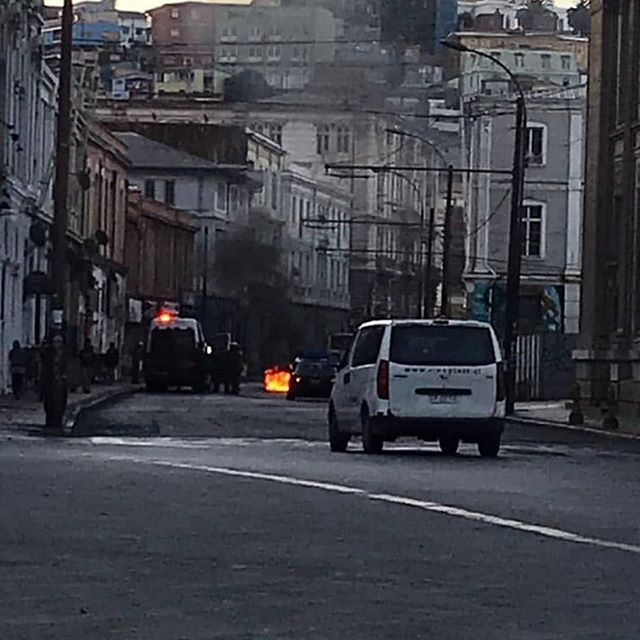building: (1, 32, 133, 378), (465, 24, 604, 321), (128, 149, 256, 305), (257, 155, 362, 344), (344, 118, 445, 314), (214, 1, 357, 112), (146, 4, 215, 105)
car: (326, 322, 497, 463)
fire: (258, 368, 291, 400)
street: (12, 409, 640, 640)
